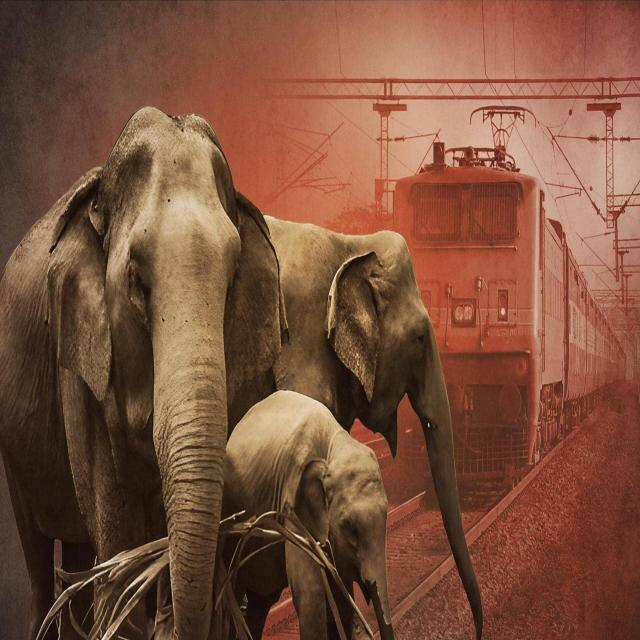Elephant: (8, 93, 249, 640), (270, 196, 498, 640), (215, 384, 395, 640)
